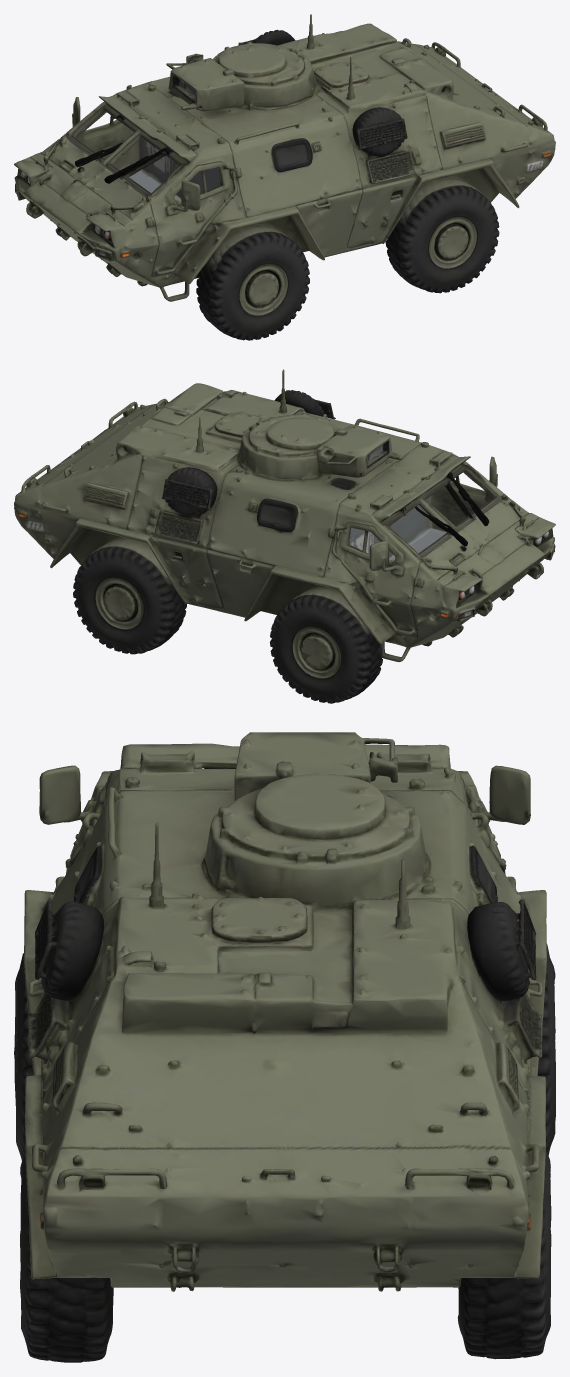
The model's file is 086_apc_armored_8x8.glb.
3 views of the same model, one above another, from view 1: azimuth 30°, elevation 25°; view 2: azimuth 150°, elevation 25°; view 3: azimuth 270°, elevation 25° (orthographic). The views are drawn at different scales.
Parts seen in each view (by area): view 1: geometry_0; view 2: geometry_0; view 3: geometry_0.
Boxes of the visible parts, x1,y1,x2,y2 form: geometry_0: (14,14,555,340); geometry_0: (14,369,555,703); geometry_0: (14,732,555,1362).
Bounding box in the file's own units: 7.5 × 3.72 × 3.96.
Materials: 1 (1 with a texture image).
